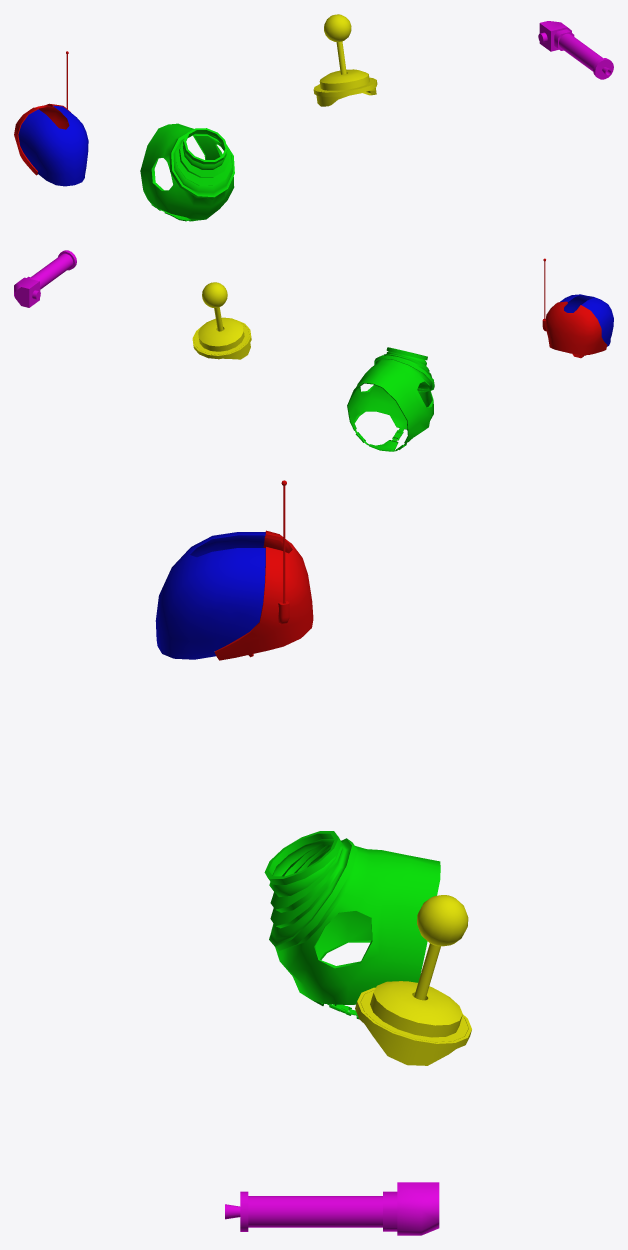
File: ChickenArmor1_Cyberpunk.fbx
3 renders of one model, top to bottom at view 1: azimuth 30°, elevation 25°; view 2: azimuth 150°, elevation 25°; view 3: azimuth 270°, elevation 25°, orthographic. The views are drawn at different scales.
Visible parts, largest first — view 1: SK_CH_Chicken1_Armor1; view 2: SK_CH_Chicken1_Armor1; view 3: SK_CH_Chicken1_Armor1.
Boxes of the visible parts, bbox=[...] form: SK_CH_Chicken1_Armor1: bbox=[14, 14, 613, 221]; SK_CH_Chicken1_Armor1: bbox=[14, 250, 613, 451]; SK_CH_Chicken1_Armor1: bbox=[155, 480, 471, 1235].
Size of the model in its own units: 174 by 61.76 by 43.46.
